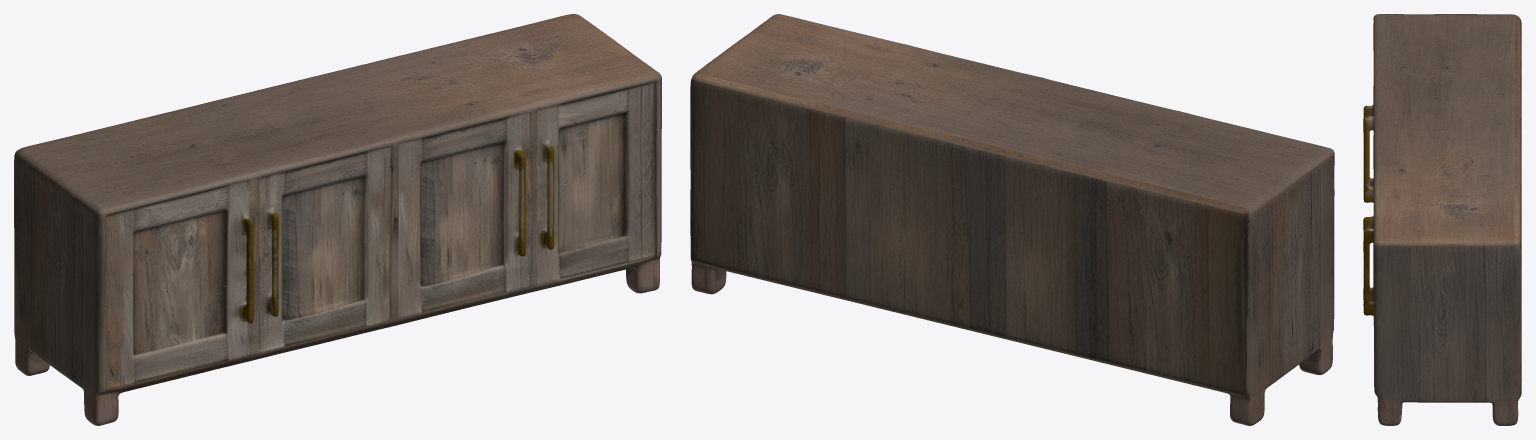
3 views of the same model, side by side, from view 1: azimuth 30°, elevation 25°; view 2: azimuth 150°, elevation 25°; view 3: azimuth 270°, elevation 25° (orthographic). The views are drawn at different scales.
Visible parts, largest first — view 1: Mesh; view 2: Mesh; view 3: Mesh.
Boxes of the visible parts, bbox=[...] form: Mesh: bbox=[14, 14, 661, 425]; Mesh: bbox=[690, 14, 1334, 425]; Mesh: bbox=[1363, 14, 1521, 425].
Size of the model in its own units: 0.99 by 0.3697 by 0.2875.
Materials: 1 (1 with a texture image).
